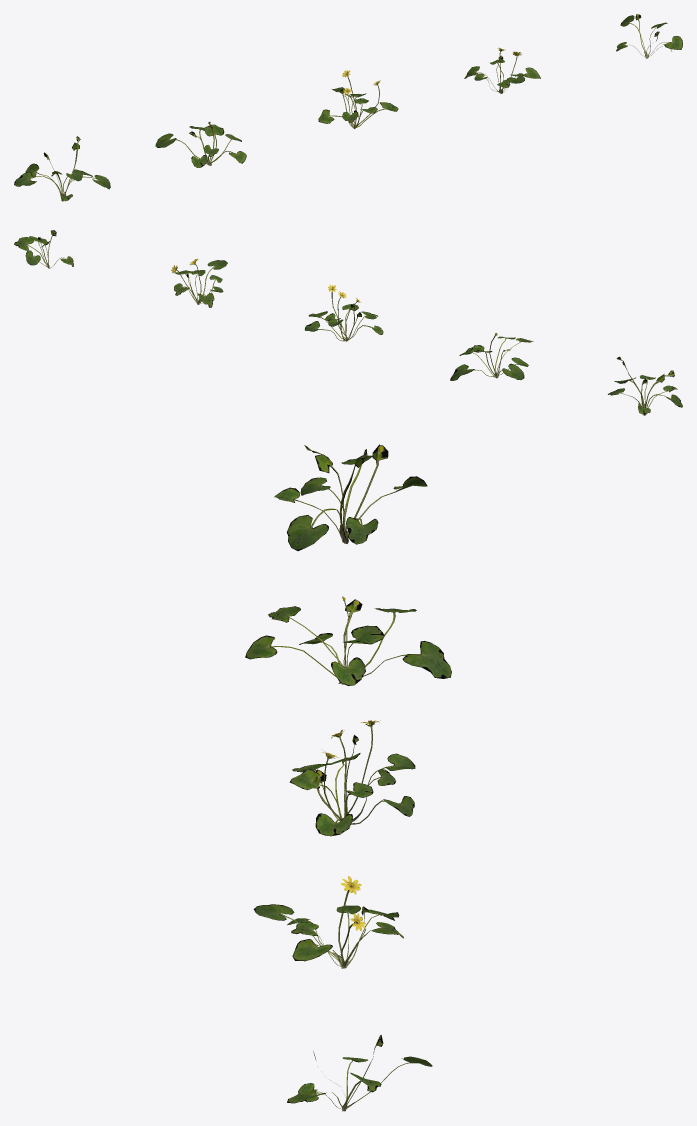
Rendered from celandine_01.glb.
3 renders of one model, top to bottom at view 1: azimuth 30°, elevation 25°; view 2: azimuth 150°, elevation 25°; view 3: azimuth 270°, elevation 25°, orthographic. The views are drawn at different scales.
Parts seen in each view (by area): view 1: celandine_01_b_LOD0, celandine_01_c_LOD0, celandine_01_a_LOD0, celandine_01_d_LOD0, celandine_01_e_LOD0; view 2: celandine_01_c_LOD0, celandine_01_b_LOD0, celandine_01_d_LOD0, celandine_01_a_LOD0, celandine_01_e_LOD0; view 3: celandine_01_b_LOD0, celandine_01_a_LOD0, celandine_01_c_LOD0, celandine_01_d_LOD0, celandine_01_e_LOD0.
Part boxes in pixels (x1=…): celandine_01_b_LOD0: x1=155, y1=122, x2=246, y2=167; celandine_01_c_LOD0: x1=318, y1=70, x2=398, y2=128; celandine_01_a_LOD0: x1=14, y1=136, x2=110, y2=201; celandine_01_d_LOD0: x1=464, y1=47, x2=540, y2=93; celandine_01_e_LOD0: x1=616, y1=14, x2=682, y2=58; celandine_01_c_LOD0: x1=304, y1=284, x2=383, y2=341; celandine_01_b_LOD0: x1=450, y1=333, x2=533, y2=380; celandine_01_d_LOD0: x1=171, y1=258, x2=227, y2=307; celandine_01_a_LOD0: x1=608, y1=356, x2=682, y2=415; celandine_01_e_LOD0: x1=14, y1=230, x2=73, y2=268; celandine_01_b_LOD0: x1=245, y1=596, x2=451, y2=685; celandine_01_a_LOD0: x1=274, y1=444, x2=427, y2=550; celandine_01_c_LOD0: x1=289, y1=720, x2=415, y2=836; celandine_01_d_LOD0: x1=253, y1=876, x2=403, y2=968; celandine_01_e_LOD0: x1=287, y1=1035, x2=432, y2=1111.
Size of the model in its own units: 2.24 by 0.1859 by 0.3067.
1 material, 1 textured.
